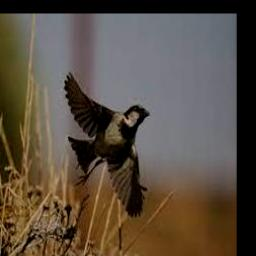Sparrow: (64, 71, 150, 217)
